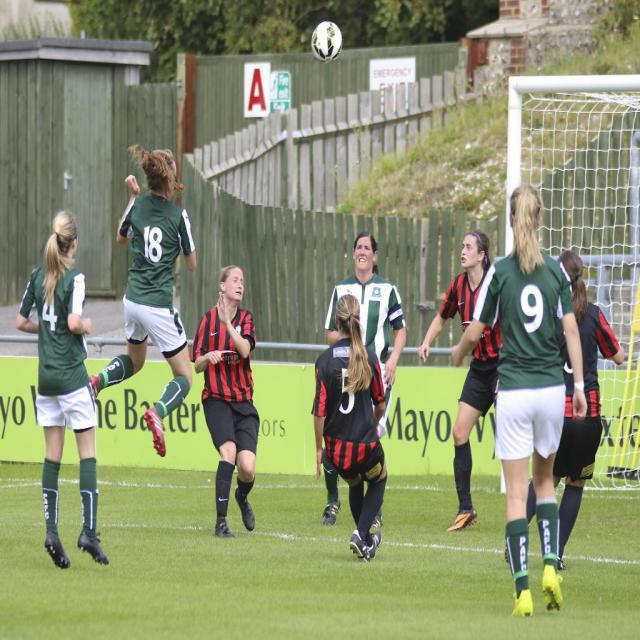football: (302, 17, 349, 64)
